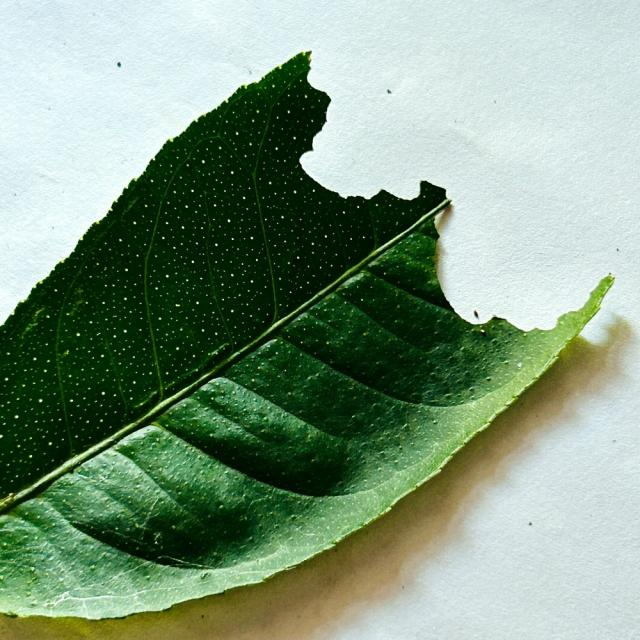Deficiency Leaf: (302, 50, 605, 325)
Lemon: (0, 53, 613, 616)
